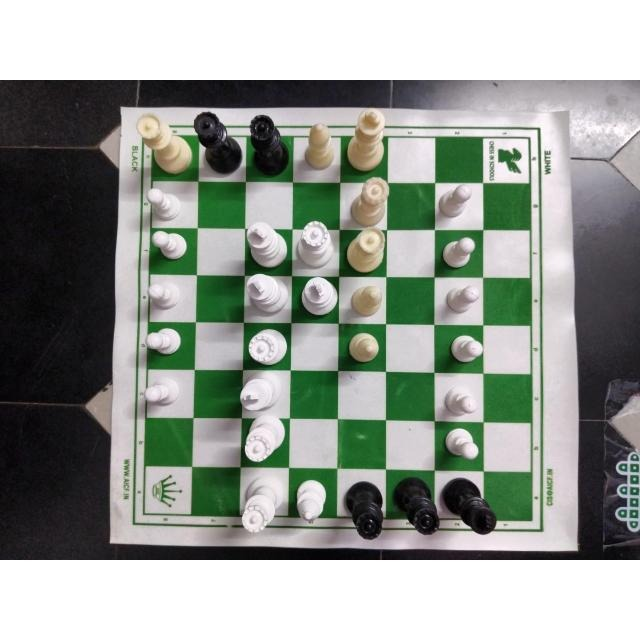black-king: (442, 477, 498, 537)
black-queen: (191, 111, 243, 175), (392, 475, 441, 537), (248, 110, 292, 178), (342, 481, 384, 541)
white-bishop: (301, 121, 337, 173), (294, 472, 330, 524), (346, 281, 385, 318), (345, 329, 381, 365)
white-king: (344, 106, 386, 173), (242, 271, 290, 317), (244, 222, 288, 270), (238, 372, 285, 414), (294, 274, 337, 318)
white-pawn: (143, 186, 186, 222), (443, 330, 486, 366), (441, 426, 481, 462), (440, 234, 478, 270), (437, 183, 476, 218), (439, 383, 479, 417), (142, 327, 187, 357), (149, 229, 190, 260), (442, 282, 482, 313), (143, 377, 183, 407), (146, 279, 184, 310)
white-queen: (134, 112, 194, 176), (241, 475, 283, 532), (240, 415, 285, 466), (294, 218, 336, 270), (344, 226, 388, 274), (347, 176, 388, 225), (244, 323, 290, 366)
